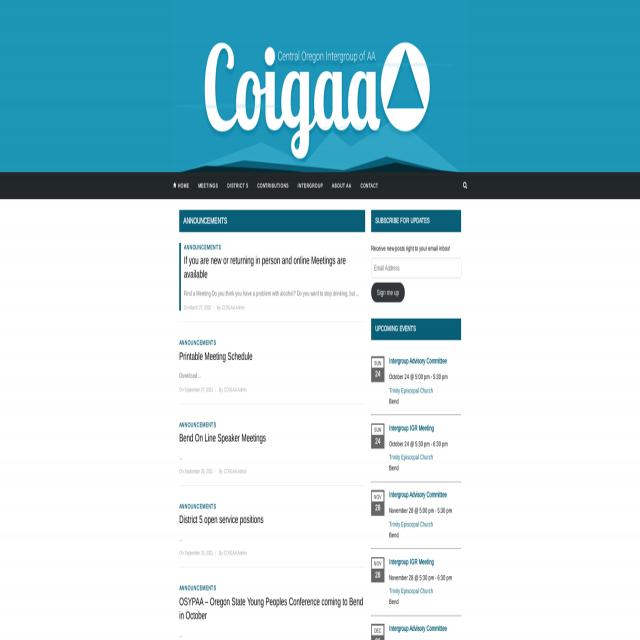button: (173, 0, 467, 174), (371, 282, 405, 302)
field: (371, 258, 461, 278)
